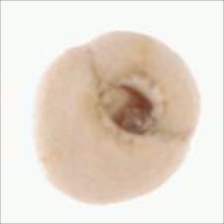L3: (95, 72, 166, 139)
L4: (35, 31, 202, 205)
